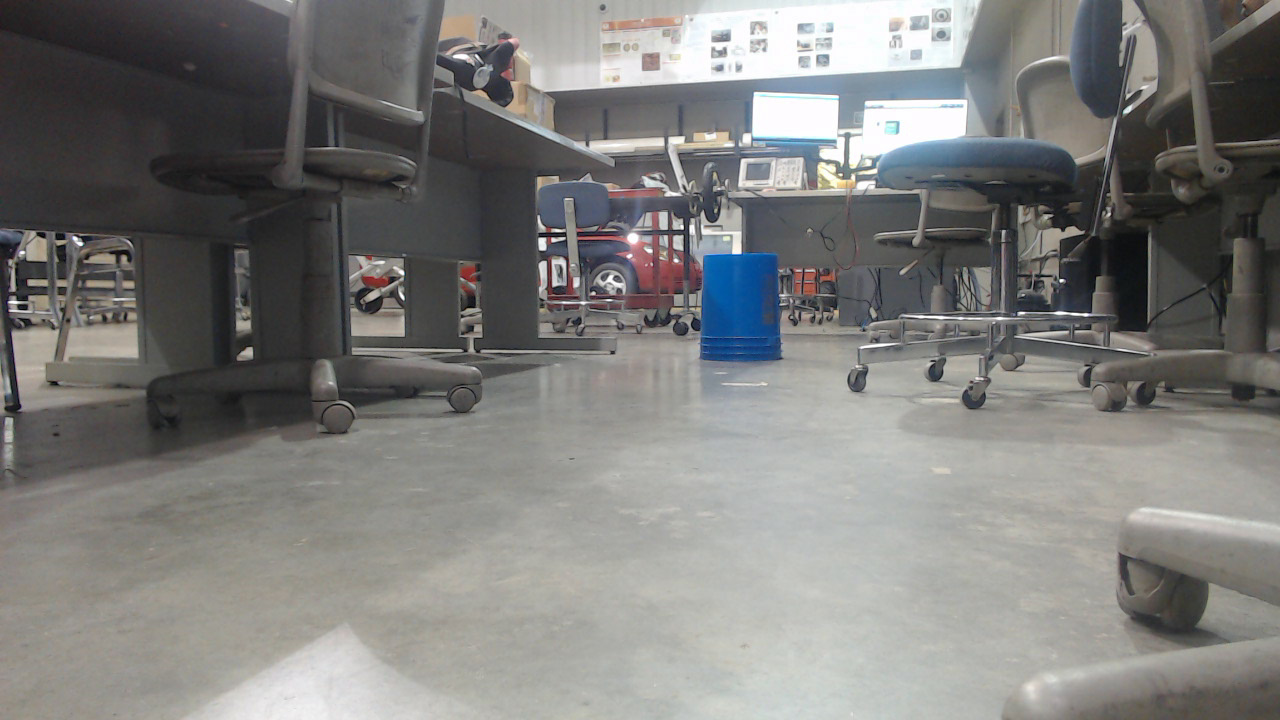blue_bucket: (700, 255, 792, 371)
